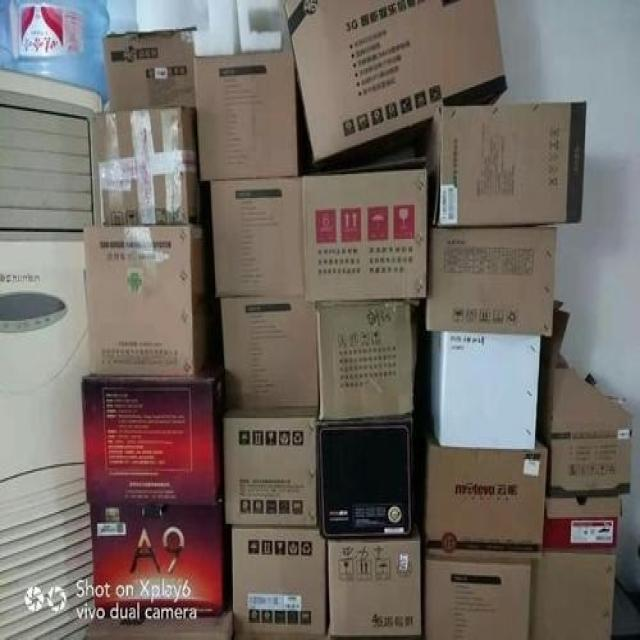Carton: (192, 0, 586, 333), (79, 379, 420, 638), (421, 331, 620, 638), (212, 171, 428, 408), (83, 108, 200, 375)
